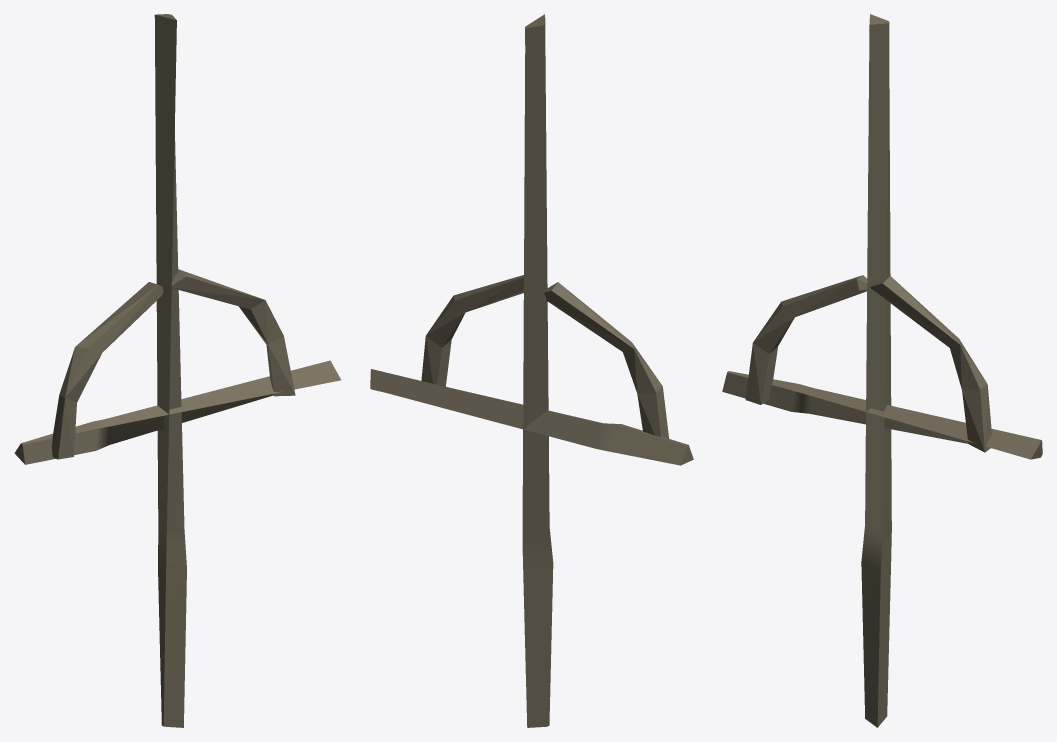
The model's file is FrontTopWall.fbx.
3 views of the same model, side by side, from view 1: azimuth 30°, elevation 25°; view 2: azimuth 150°, elevation 25°; view 3: azimuth 330°, elevation 25° (orthographic).
Visible parts, largest first — view 1: FrontTopWall_Merged; view 2: FrontTopWall_Merged; view 3: FrontTopWall_Merged.
Boxes of the visible parts, x1=… form: FrontTopWall_Merged: x1=14, y1=14, x2=340, y2=727; FrontTopWall_Merged: x1=370, y1=14, x2=693, y2=727; FrontTopWall_Merged: x1=722, y1=14, x2=1042, y2=727.
Bounding box in the file's own units: 263 × 568 × 27.04.
